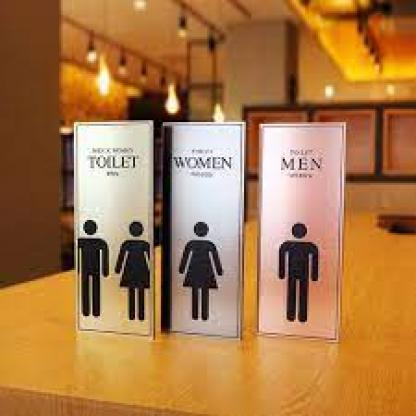toilet: (79, 215, 152, 324), (178, 216, 224, 326), (277, 221, 321, 327)
